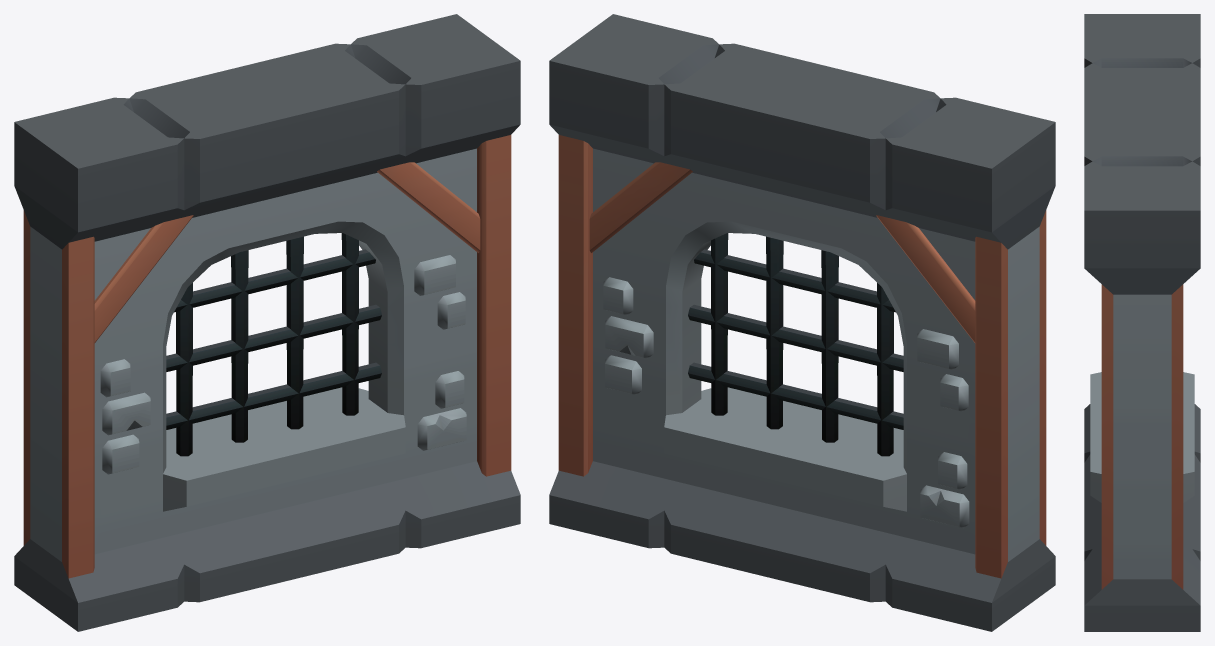
The model's file is wall_archedwindow_gated_scaffold.glb.
The picture shows the model from 3 angles, left to right: view 1: azimuth 30°, elevation 25°; view 2: azimuth 150°, elevation 25°; view 3: azimuth 270°, elevation 25°; orthographic projection. The views are drawn at different scales.
Parts seen in each view (by area): view 1: wall_archedwindow_gated_scaffold; view 2: wall_archedwindow_gated_scaffold; view 3: wall_archedwindow_gated_scaffold.
Part boxes in pixels (bbox=[...]): wall_archedwindow_gated_scaffold: bbox=[14, 14, 520, 631]; wall_archedwindow_gated_scaffold: bbox=[549, 14, 1055, 631]; wall_archedwindow_gated_scaffold: bbox=[1084, 14, 1200, 631].
Size of the model in its own units: 4 by 4 by 1.
1 material, 1 textured.
